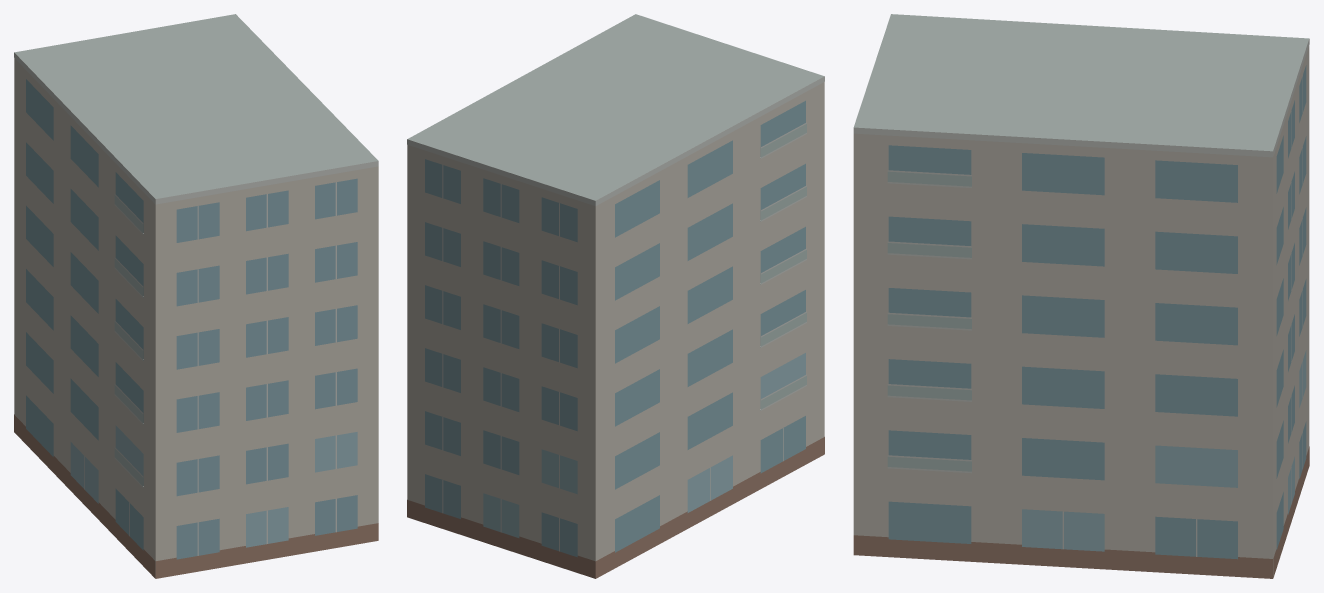
Rendered from survey-upis-32658202.glb.
3 views of the same model, side by side, from view 1: azimuth 30°, elevation 25°; view 2: azimuth 150°, elevation 25°; view 3: azimuth 270°, elevation 25° (orthographic). The views are drawn at different scales.
Parts seen in each view (by area): view 1: survey-upis-32658202.tmp; view 2: survey-upis-32658202.tmp; view 3: survey-upis-32658202.tmp.
Part boxes in pixels (x1,y1,x2,y2): survey-upis-32658202.tmp: [14, 14, 378, 578]; survey-upis-32658202.tmp: [407, 14, 824, 578]; survey-upis-32658202.tmp: [853, 14, 1309, 578].
Bounding box in the file's own units: 11.78 × 17.1 × 16.53.
